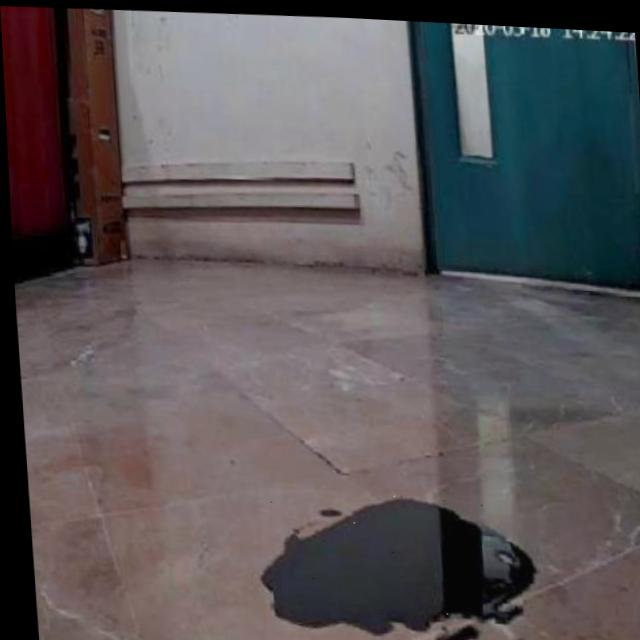spillage: (257, 490, 537, 640)
